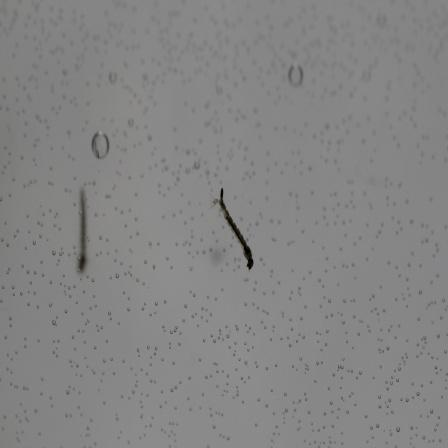Jentik-Nyamuk: (211, 184, 258, 271), (72, 182, 92, 277)
